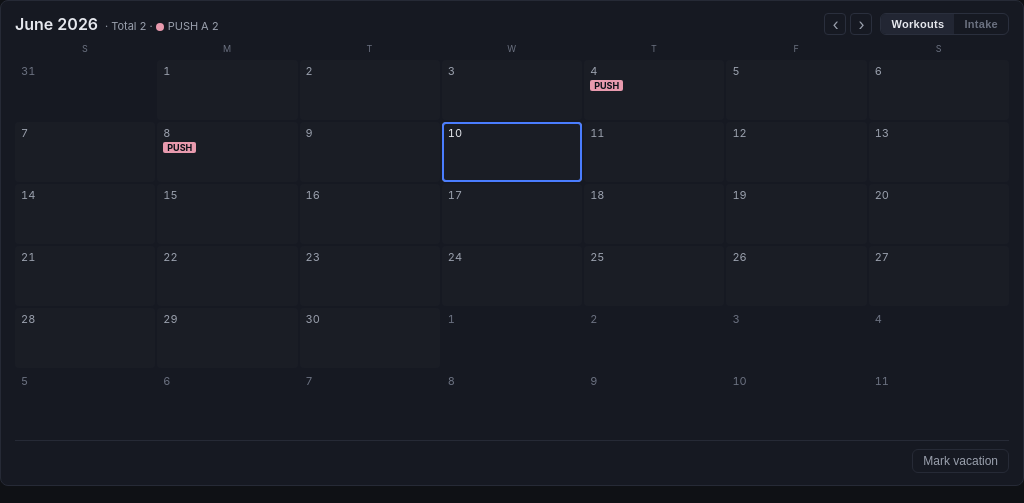
MonthCalendar › switches to intake mode on toggle: fetches macros range, renders intake grid, persists
Click the button with test id "mode-intake". click: (981, 24)
box: [954,14,1008,34]
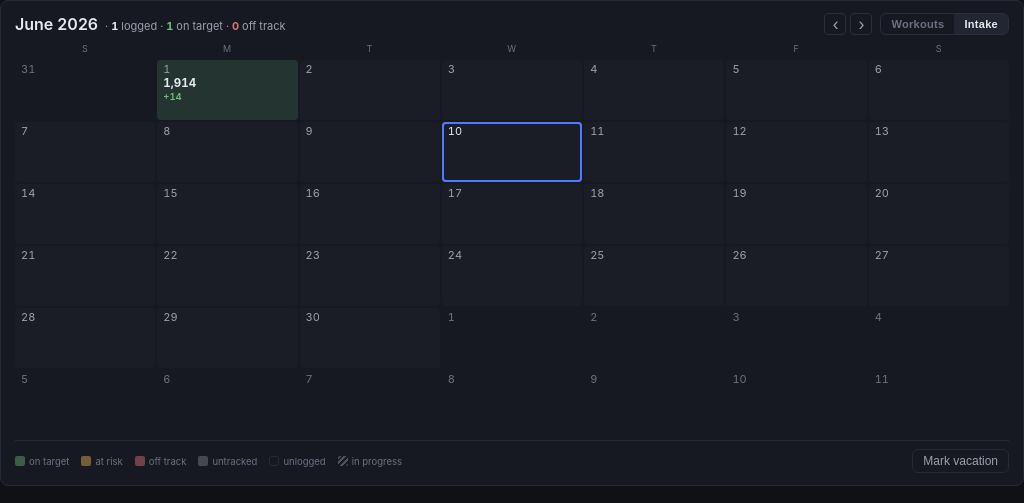
expect the element with test id "intake-grid" is shown: met
